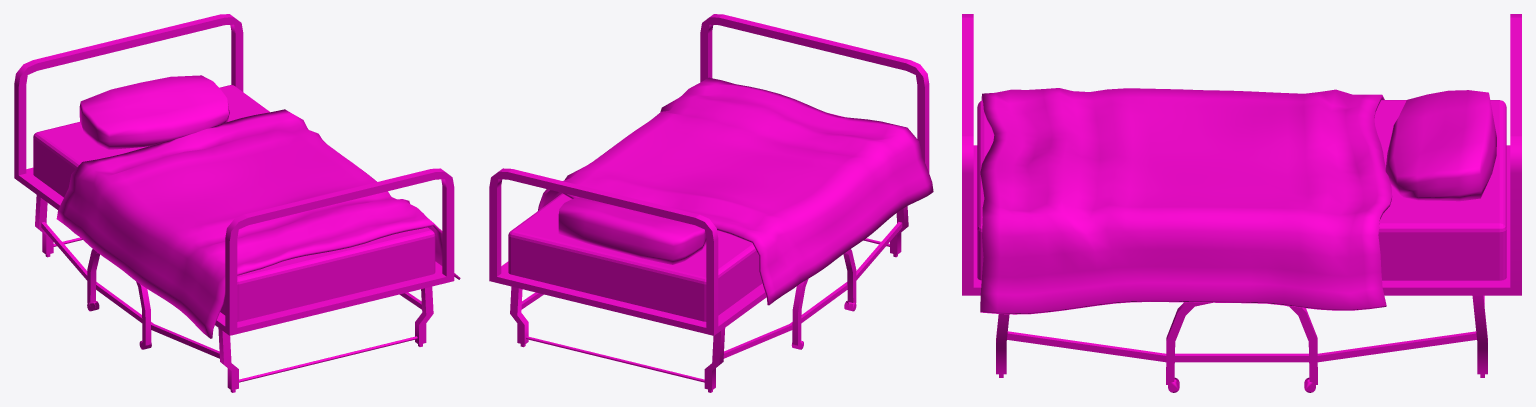
Rendered from SM_MetalFoldingBed_LOD_00.fbx.
3 views of the same model, side by side, from view 1: azimuth 30°, elevation 25°; view 2: azimuth 150°, elevation 25°; view 3: azimuth 270°, elevation 25° (orthographic). The views are drawn at different scales.
Parts seen in each view (by area): view 1: duvet, bed frame, matress, pillow, more frame; view 2: duvet, bed frame, matress, pillow, more frame; view 3: duvet, matress, bed frame, pillow, more frame.
Part boxes in pixels (x1,y1,x2,y2): duvet: (56,109,460,338); bed frame: (14,14,454,392); matress: (33,85,435,321); pillow: (79,75,229,149); more frame: (41,222,421,382); duvet: (538,77,933,305); bed frame: (489,14,929,392); matress: (508,113,844,321); pillow: (558,197,706,264); more frame: (521,222,902,382); duvet: (980,88,1392,314); matress: (977,100,1506,280); bed frame: (962,14,1521,384); pillow: (1385,90,1496,201); more frame: (1007,295,1484,392).
Bounding box in the file's own units: 139 × 94.92 × 200.
